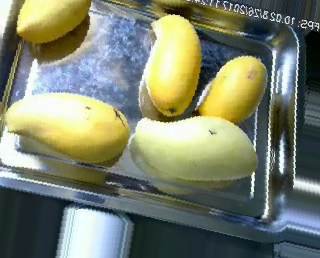Mango: (130, 108, 266, 187), (5, 92, 132, 170), (136, 12, 206, 115), (198, 52, 271, 126), (11, 0, 101, 52)
